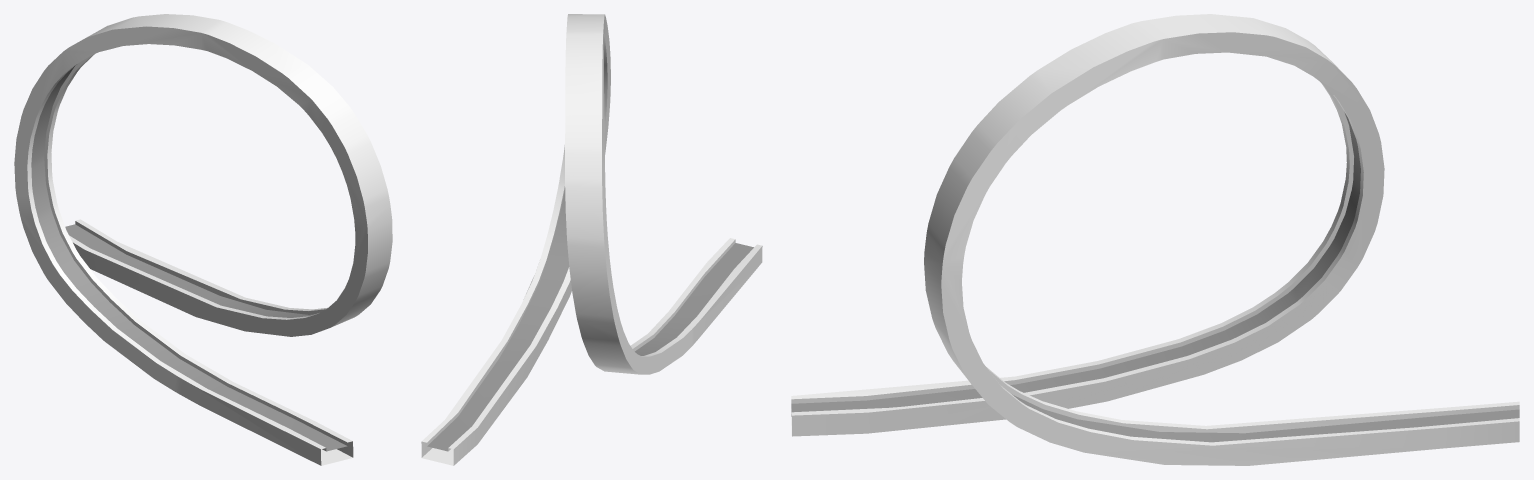
File: rd_petlya.fbx
3 views of the same model, side by side, from view 1: azimuth 30°, elevation 25°; view 2: azimuth 150°, elevation 25°; view 3: azimuth 270°, elevation 25° (orthographic). The views are drawn at different scales.
Visible parts, largest first — view 1: base; view 2: base; view 3: base.
Part boxes in pixels (x1,y1,x2,y2): base: (14, 14, 392, 465); base: (421, 14, 762, 465); base: (791, 14, 1519, 465).
Bounding box in the file's own units: 1608 × 2383 × 3848.
